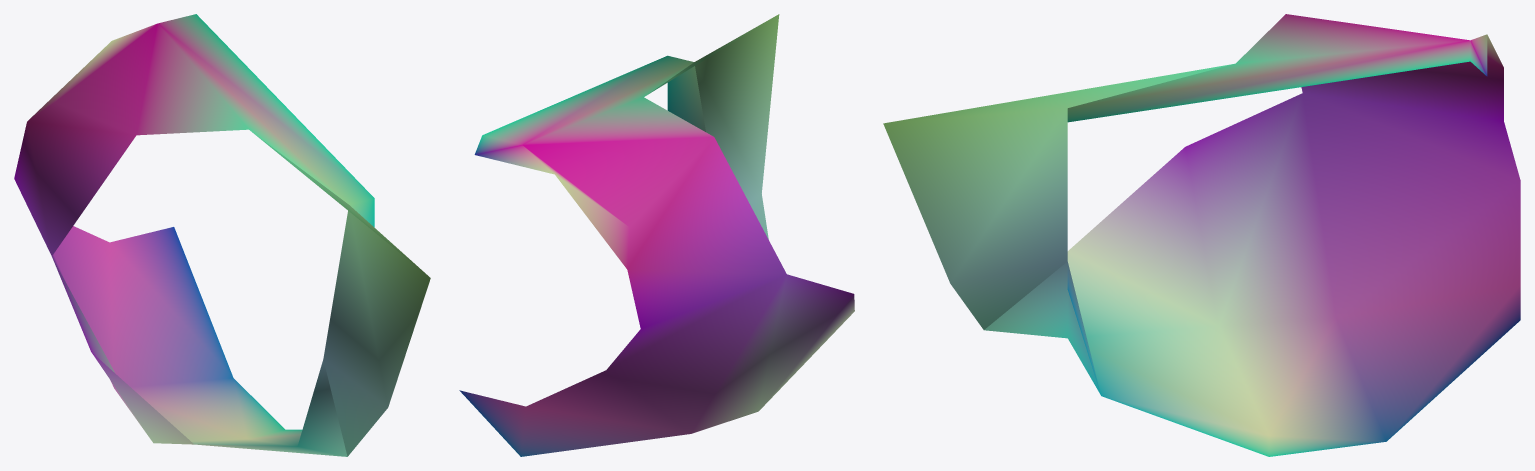
3 views of the same model, side by side, from view 1: azimuth 30°, elevation 25°; view 2: azimuth 150°, elevation 25°; view 3: azimuth 270°, elevation 25° (orthographic). The views are drawn at different scales.
Parts seen in each view (by area): view 1: part; view 2: part; view 3: part.
Part boxes in pixels (x1,y1,x2,y2): part: (14,14,430,456); part: (459,14,854,456); part: (883,14,1520,456).
Bounding box in the file's own units: 18 × 26 × 38.
